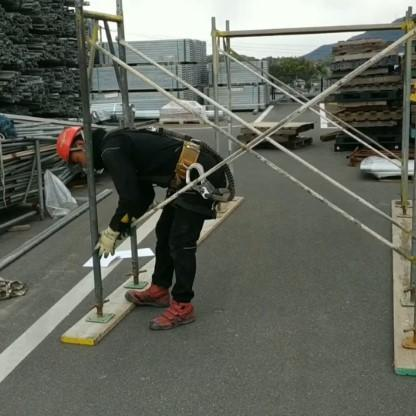helmet: (55, 116, 109, 171)
